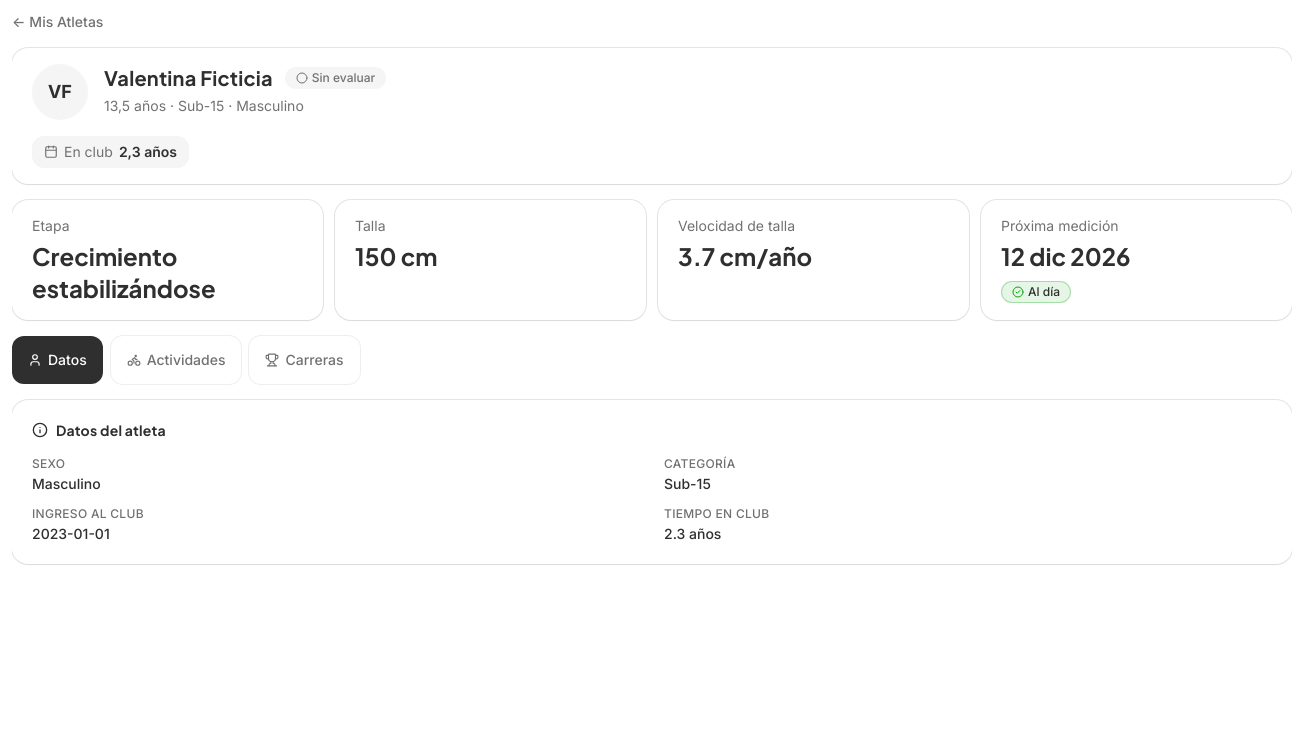
MyAthleteDetailPage — Carreras › Progresión (padre, features 044 US7 + 045) › estado vacío: mensaje dedicado, sin chips/tabla/gráfica
Click the button with test id "parent-tab-races".
click(304, 360)  # box [250, 336, 360, 384]
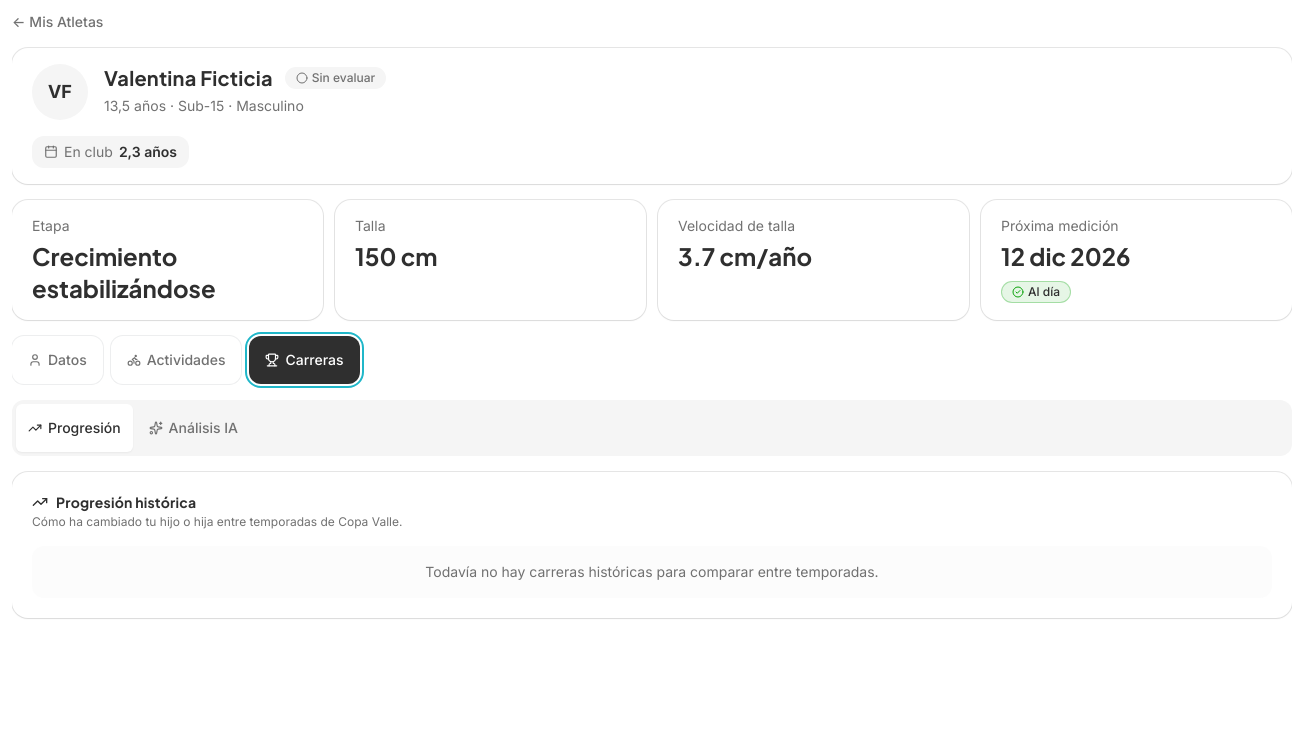
Now the text with test id "history-empty" is shown, box [32, 546, 1272, 598]
